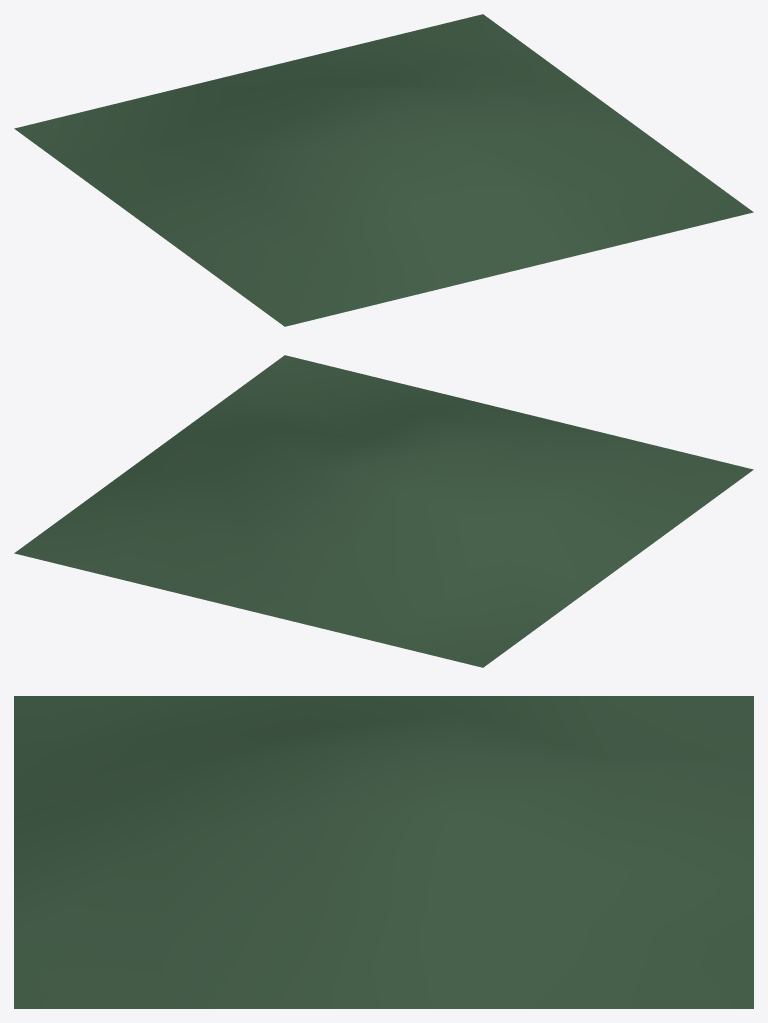
File: Moss.fbx
3 renders of one model, top to bottom at view 1: azimuth 30°, elevation 25°; view 2: azimuth 150°, elevation 25°; view 3: azimuth 270°, elevation 25°, orthographic. The views are drawn at different scales.
Parts seen in each view (by area): view 1: moss:Mesh; view 2: moss:Mesh; view 3: moss:Mesh.
Boxes of the visible parts, bbox=[...] form: moss:Mesh: bbox=[14, 14, 753, 326]; moss:Mesh: bbox=[14, 355, 753, 667]; moss:Mesh: bbox=[14, 696, 753, 1008].
Bounding box in the file's own units: 14.95 × 1.6 × 14.95.
